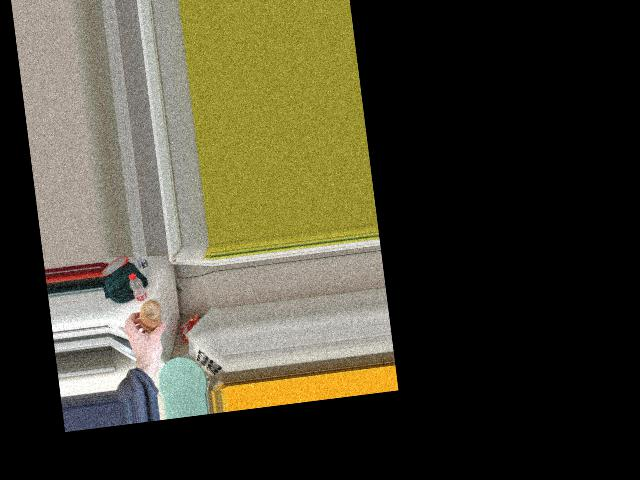sweet_potato: (135, 296, 167, 337)
